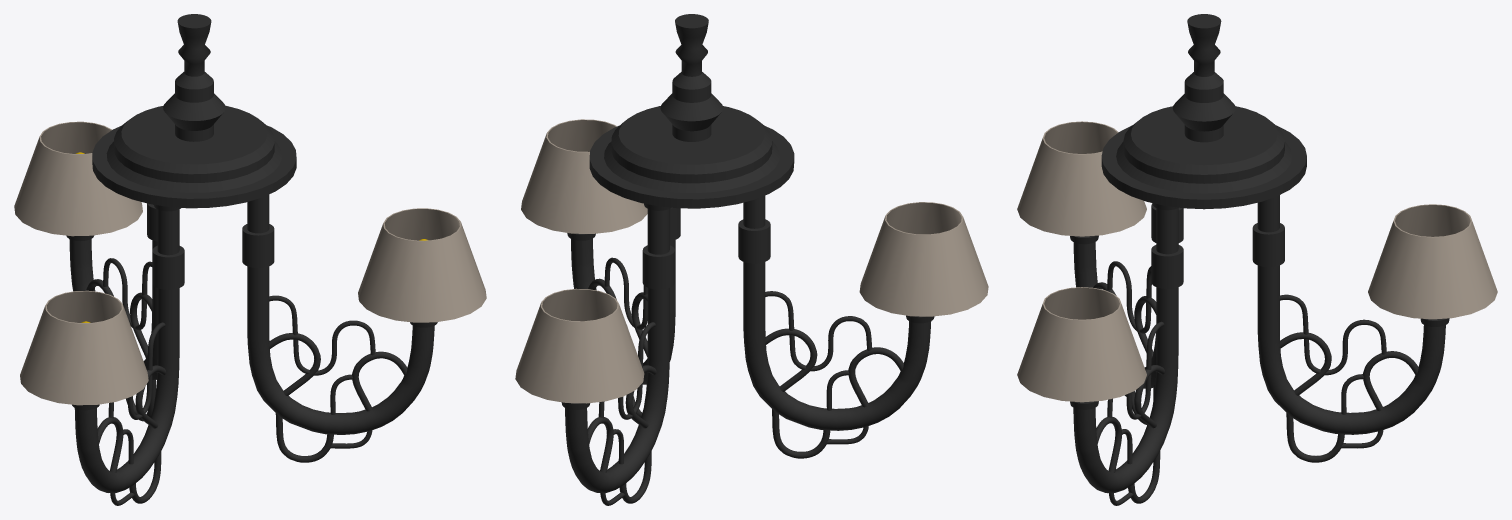
File: Lustre1_2.fbx
The picture shows the model from 3 angles, left to right: view 1: azimuth 30°, elevation 25°; view 2: azimuth 150°, elevation 25°; view 3: azimuth 270°, elevation 25°; orthographic projection.
Parts seen in each view (by area): view 1: pCylinder903, pPipe156, pPipe155, pCylinder1057, pPipe157, pCylinder1070, pCylinder1082, pCylinder1062, pCylinder1063, pCylinder1047, pCylinder1061, pCylinder1031; view 2: pCylinder903, pPipe157, pPipe155, pCylinder1070, pCylinder1082, pPipe156, pCylinder1057, pCylinder1067, pCylinder1068, pCylinder1062, pCylinder1071, pCylinder1073 (+1 smaller); view 3: pCylinder903, pPipe157, pPipe156, pCylinder1082, pPipe155, pCylinder1057, pCylinder1070, pCylinder1042, pCylinder1051, pCylinder1052, pCylinder1049, pCylinder1047.
Boxes of the visible parts, x1,y1,x2,y2 form: pCylinder903: (92, 14, 296, 208); pPipe156: (358, 208, 486, 322); pPipe155: (20, 290, 148, 405); pCylinder1057: (242, 194, 434, 434); pPipe157: (14, 121, 142, 236); pCylinder1070: (74, 204, 184, 492); pCylinder1082: (69, 203, 157, 384); pCylinder1062: (293, 320, 375, 375); pCylinder1063: (269, 333, 320, 395); pCylinder1047: (352, 351, 407, 411); pCylinder1061: (275, 413, 333, 462); pCylinder1031: (97, 417, 123, 472); pCylinder903: (589, 14, 794, 208); pPipe157: (515, 288, 644, 403); pPipe155: (859, 202, 988, 316); pCylinder1070: (738, 195, 931, 430); pCylinder1082: (565, 203, 674, 492); pPipe156: (521, 119, 647, 233); pCylinder1057: (571, 207, 680, 384); pCylinder1067: (789, 316, 870, 371); pCylinder1068: (765, 328, 815, 391); pCylinder1062: (604, 257, 647, 329); pCylinder1071: (848, 347, 903, 407); pCylinder1073: (772, 409, 828, 458); pCylinder903: (1101, 14, 1306, 209); pPipe157: (1368, 204, 1497, 319); pPipe156: (1017, 287, 1146, 402); pCylinder1082: (1252, 195, 1445, 434); pPipe155: (1017, 121, 1146, 236); pCylinder1057: (1073, 203, 1183, 493); pCylinder1070: (1073, 203, 1183, 388); pCylinder1042: (1304, 320, 1386, 375); pCylinder1051: (1279, 332, 1331, 395); pCylinder1052: (1363, 351, 1418, 410); pCylinder1049: (1286, 413, 1344, 462); pCylinder1047: (1096, 417, 1122, 472).
Size of the model in its own units: 52.96 by 49.35 by 48.78.
